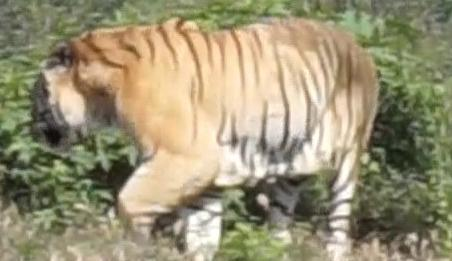tiger: (33, 17, 378, 259)
